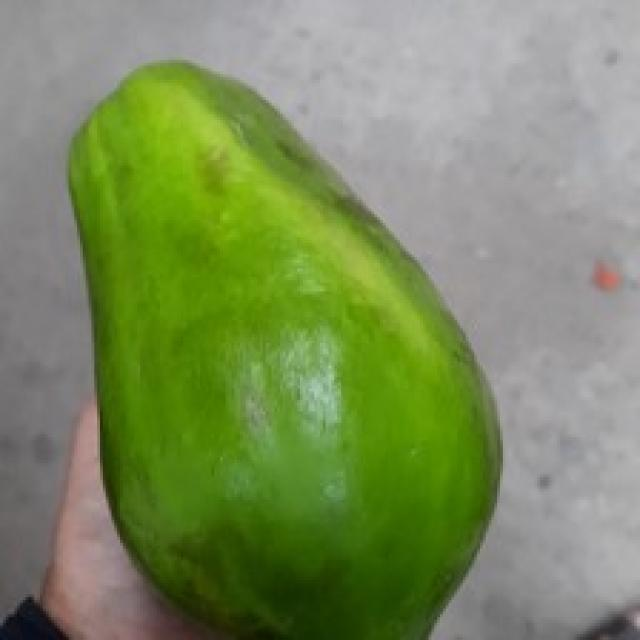Pepaya unrippen: (71, 56, 521, 640)
